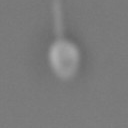normal: (47, 1, 67, 41)
